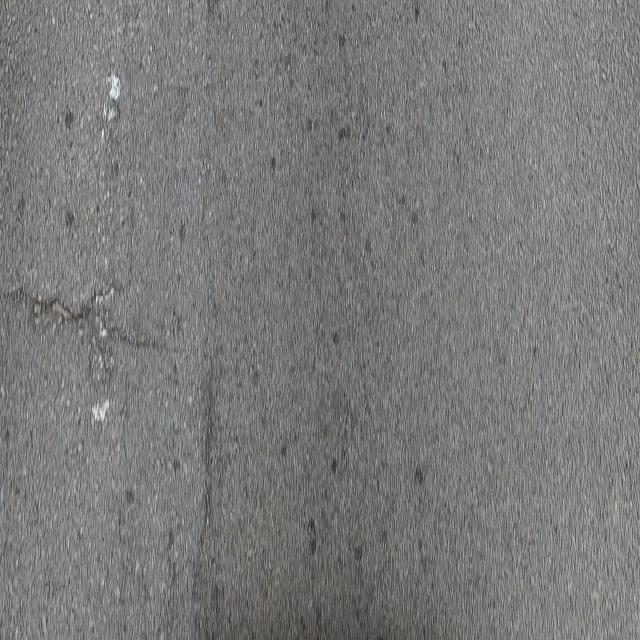Retak-Melintang: (2, 280, 165, 352)
